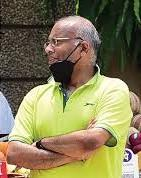Wore Mask Incorrectly: (38, 16, 100, 92)
